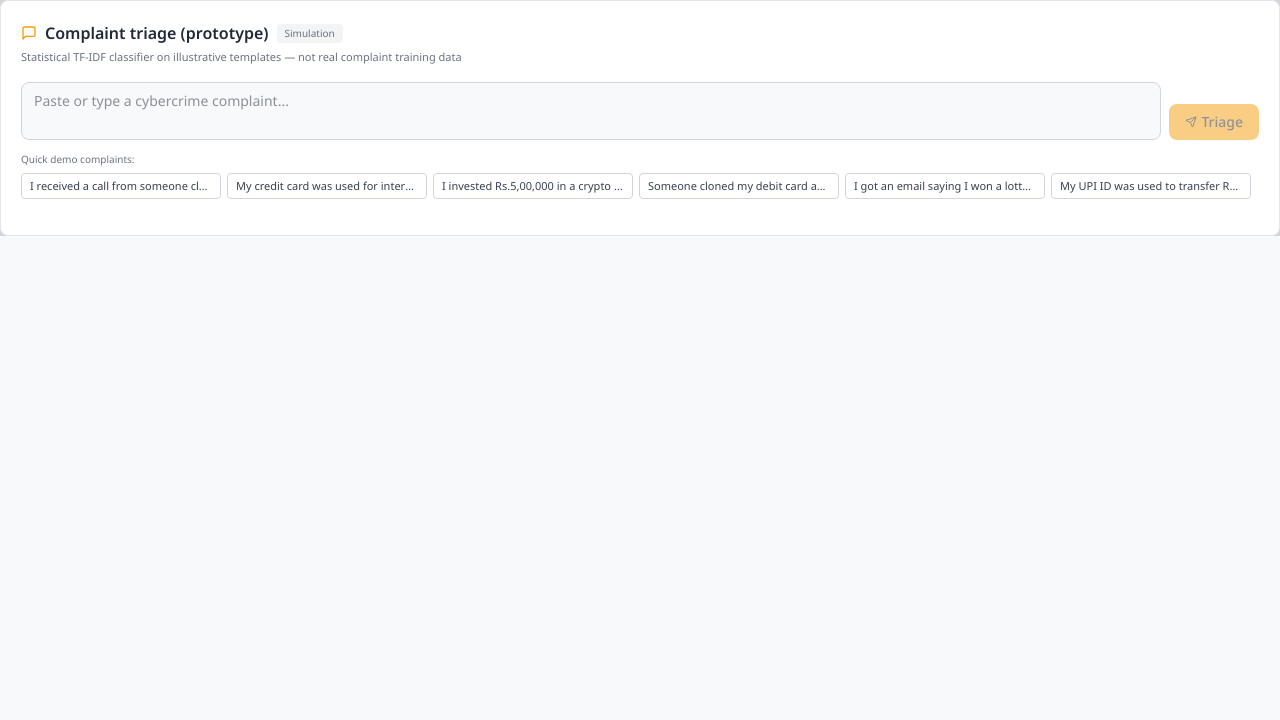
Scenario: NlpComplaintTriage › displays heuristic note
In the text box with placeholder "Paste or type a cybercrime complaint...": (591, 110) [21, 82, 1161, 140], type "UPI fraud"
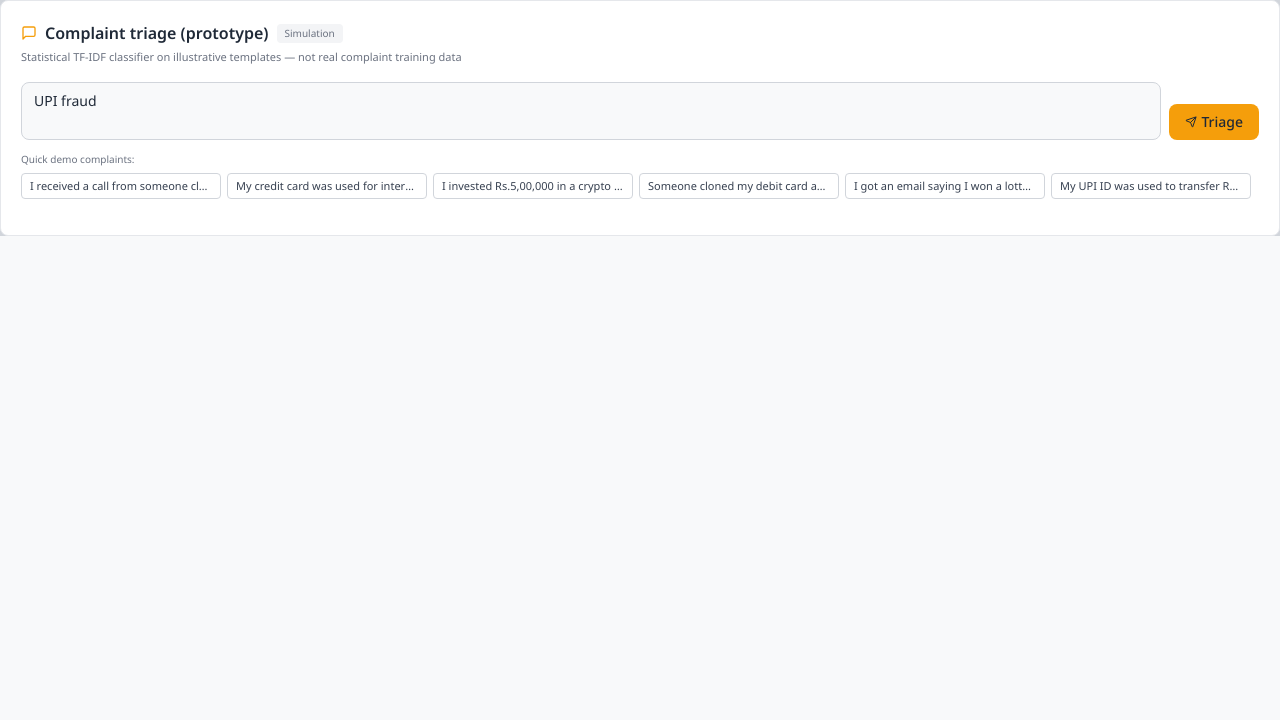
Click the button "Triage": (1214, 122) [1169, 104, 1259, 140]
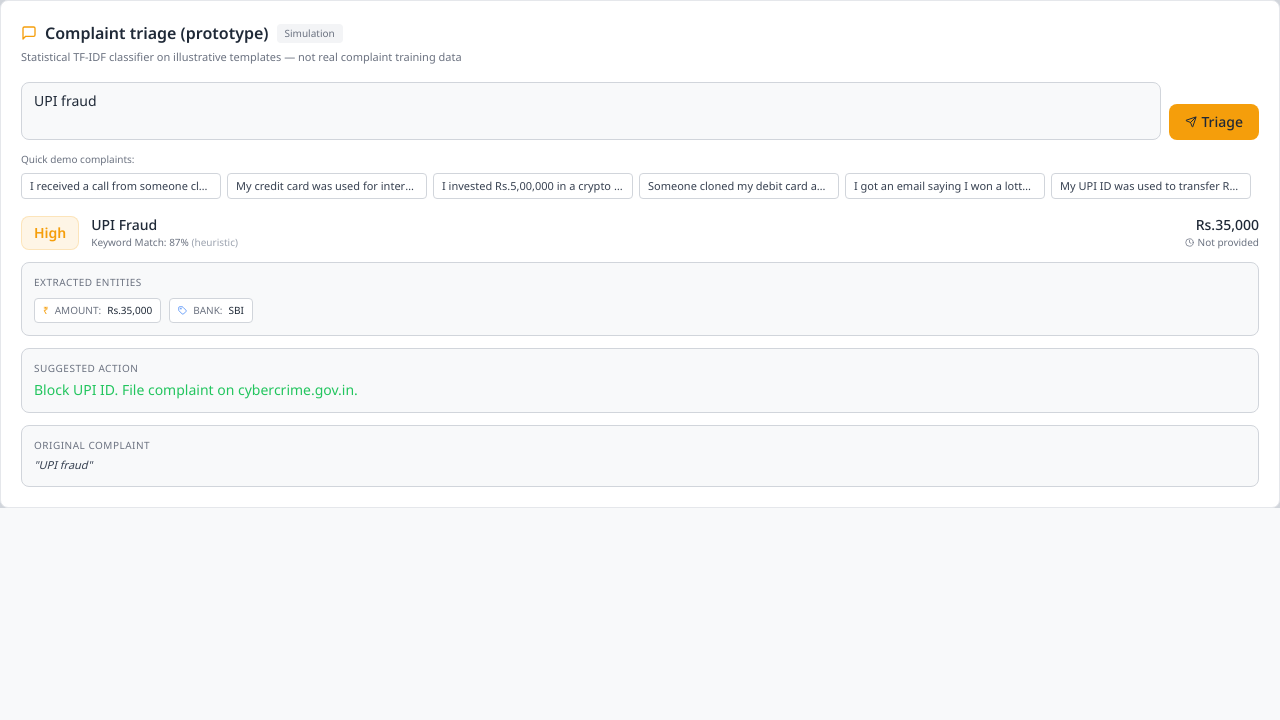
Expected: the text "(heuristic)" is shown, [192, 235, 238, 249]
